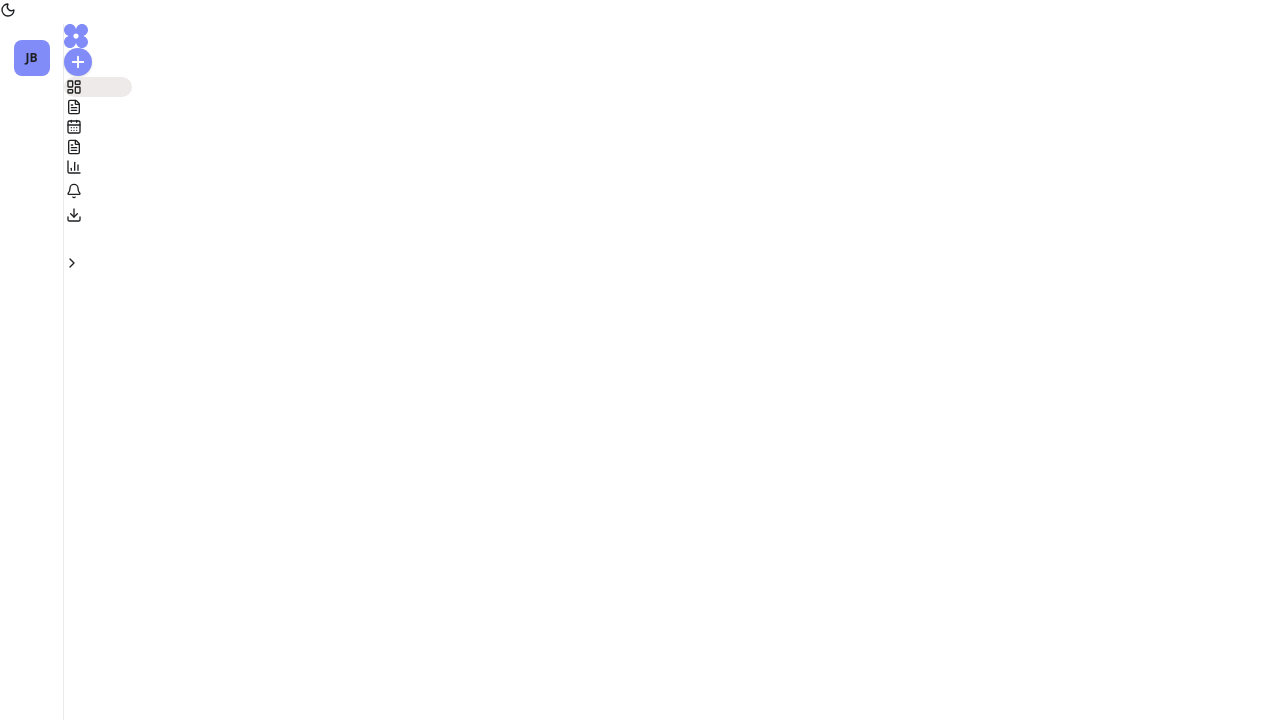
Test: KanbanBoardPage › appends a new application after cards in the selected status
Click the button named "Add application" at (78, 62), box [64,48,92,76]
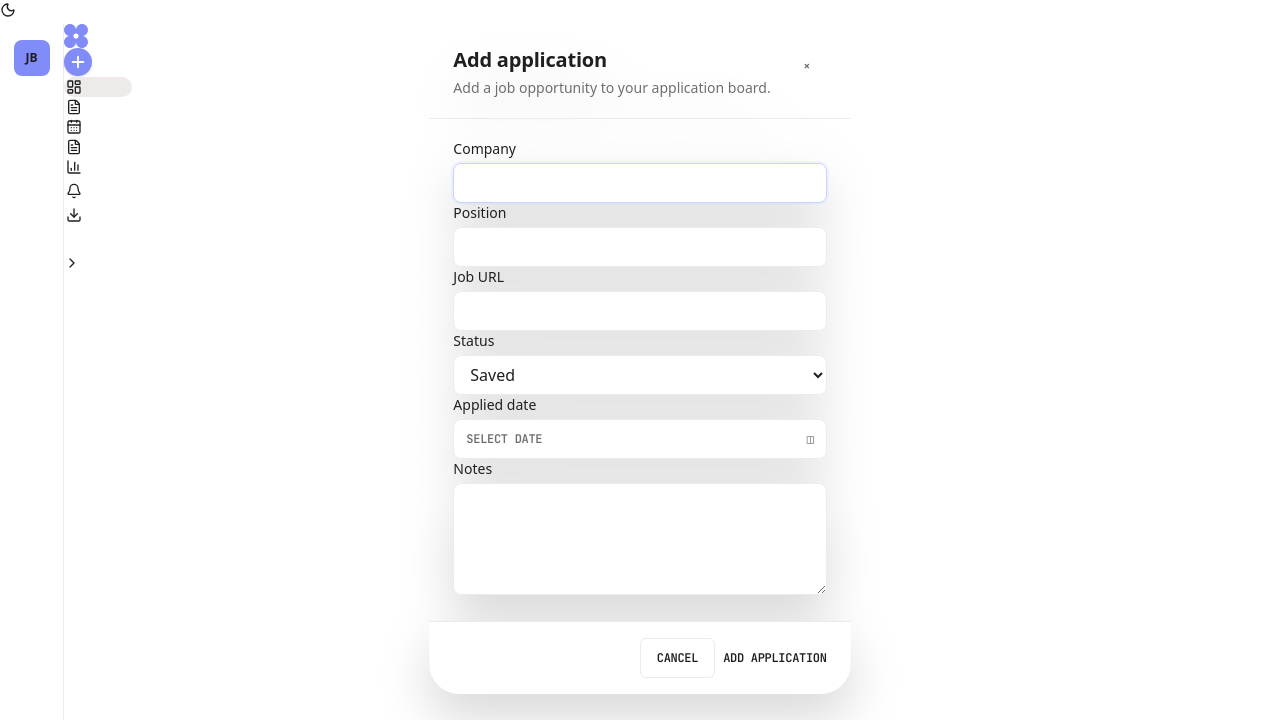
Type "  New Acme  " into the field labelled "Company" at (640, 183), box [453,163,827,203]
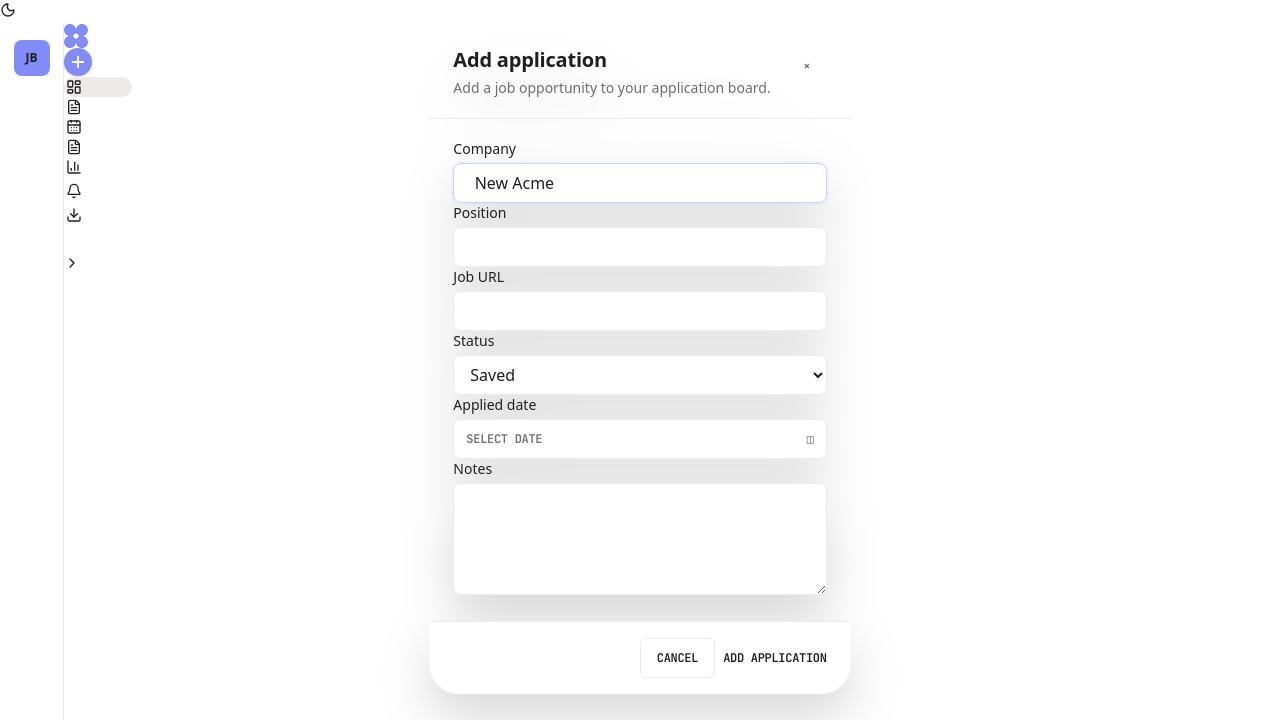
Type "  Staff Engineer  " into the field labelled "Position" at (640, 247), box [453,227,827,267]
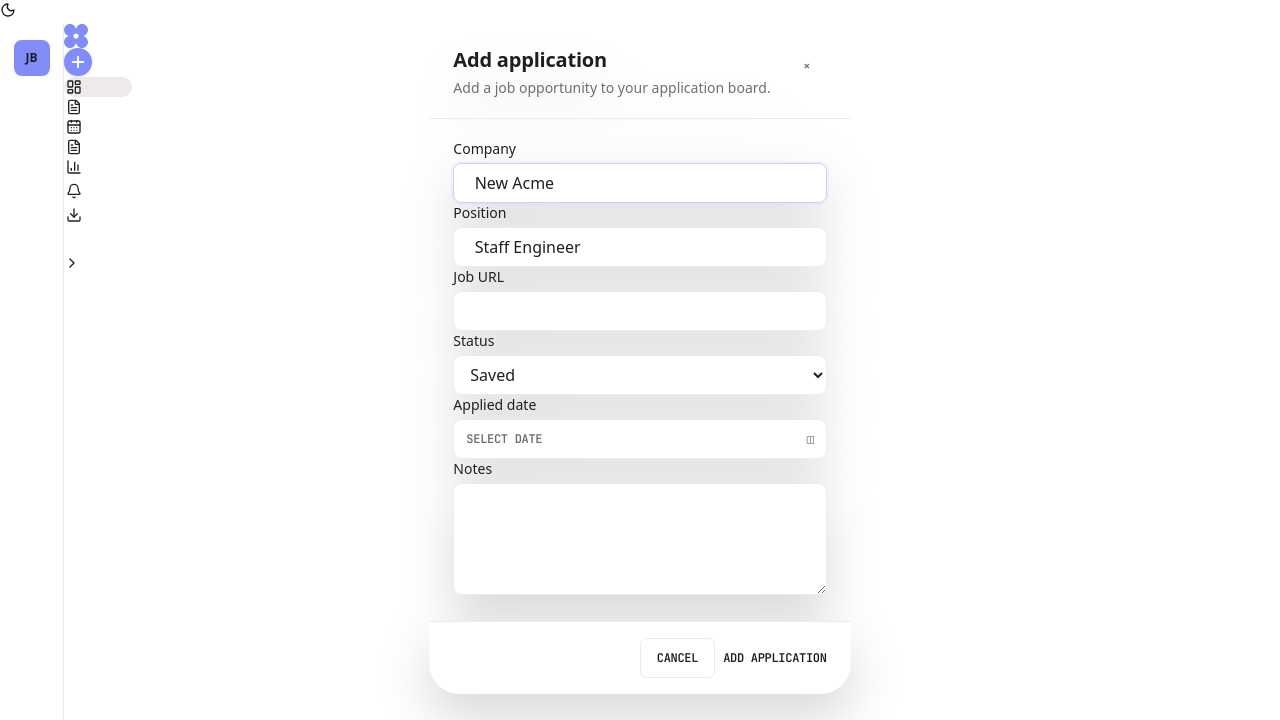
Click the button "Add application" at (775, 658), box [723,638,827,678]
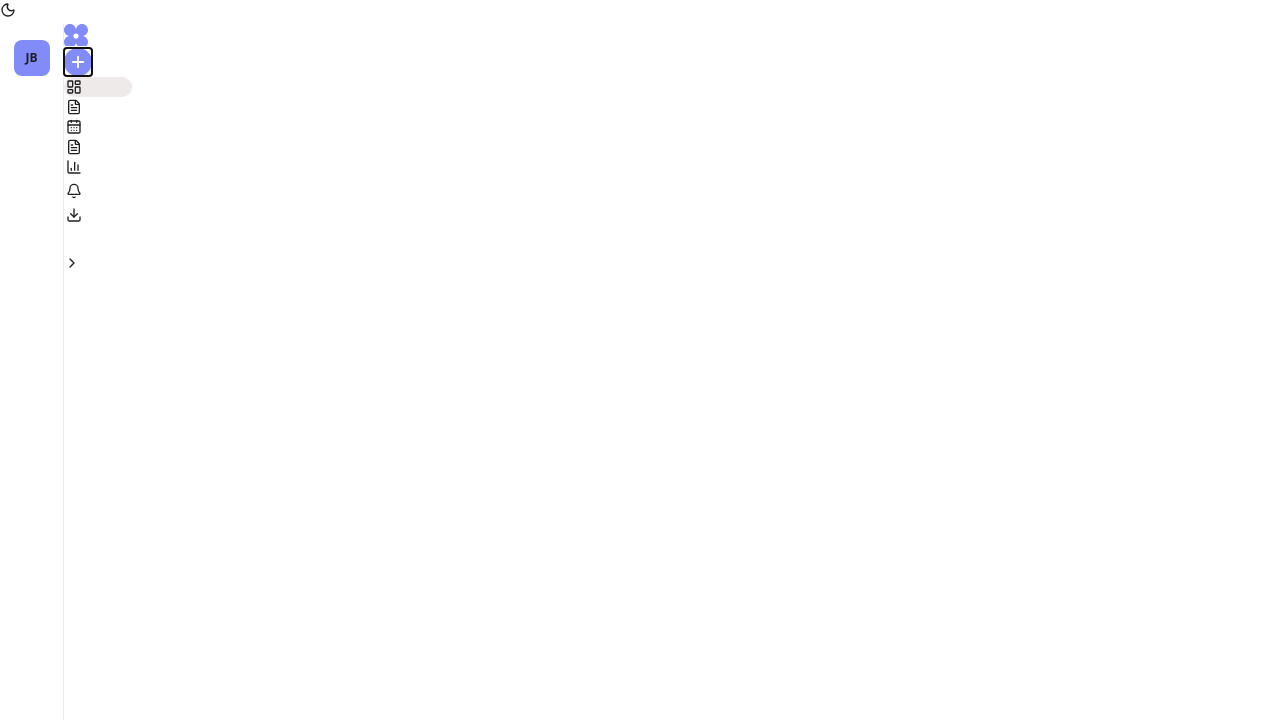
Expected: the dialog is gone
